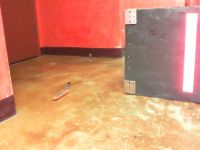switch: (181, 14, 197, 94)
